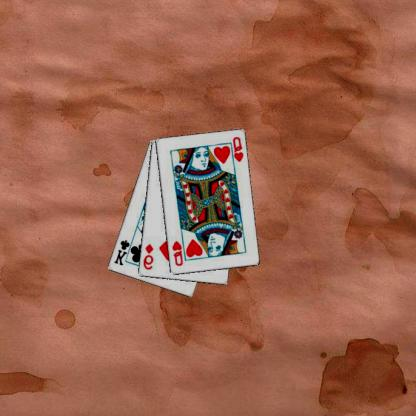6D: (142, 241, 156, 271)
KC: (113, 237, 136, 267)
QH: (228, 135, 245, 167), (171, 238, 186, 268)
